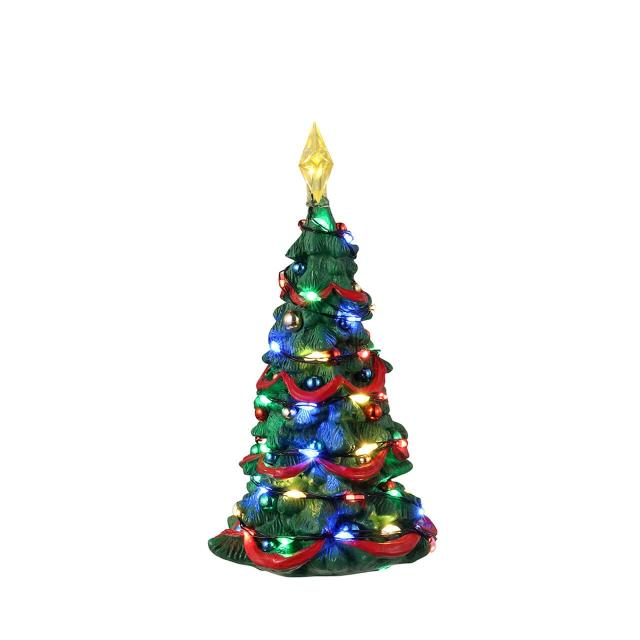Christmas-tree: (115, 101, 490, 592)
